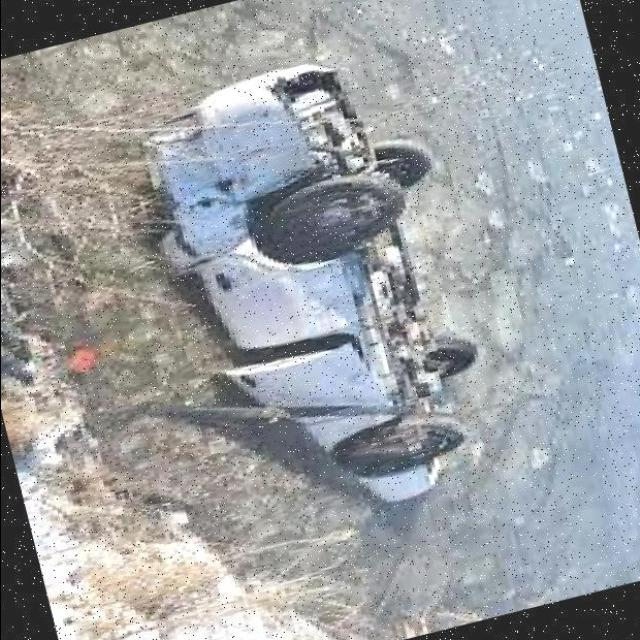accident: (105, 35, 523, 548)
